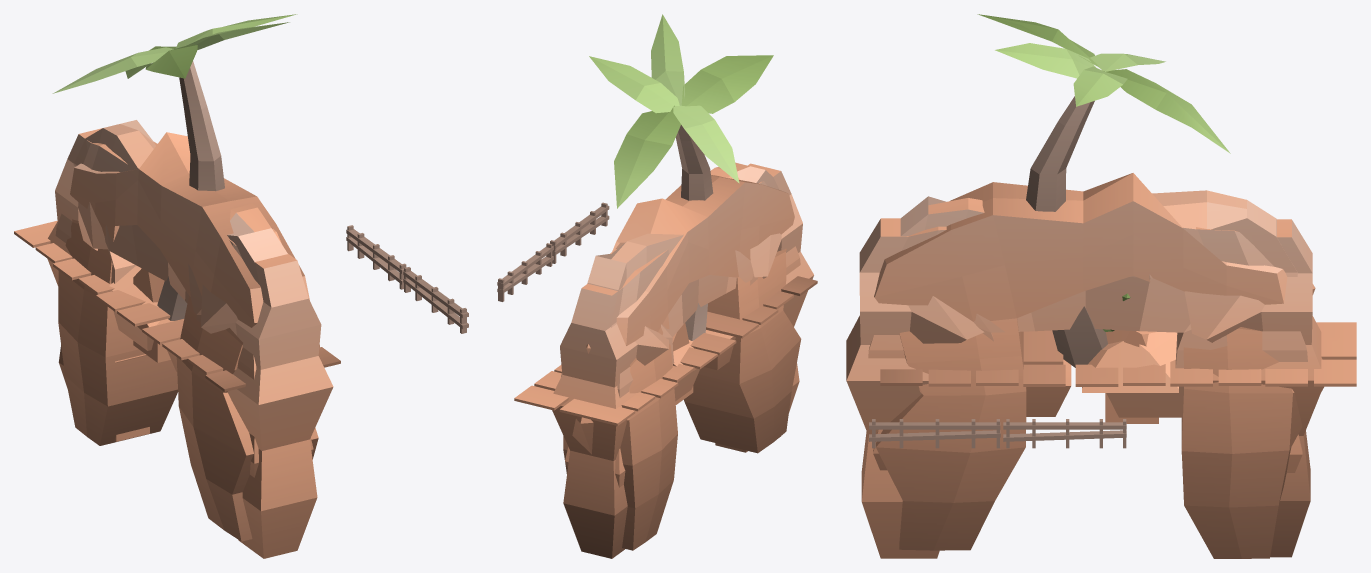
Rendered from DesertProps.fbx.
The picture shows the model from 3 angles, left to right: view 1: azimuth 30°, elevation 25°; view 2: azimuth 150°, elevation 25°; view 3: azimuth 270°, elevation 25°; orthographic projection. The views are drawn at different scales.
Visible parts, largest first — view 1: Arco_01, Arco_03, Palmeira, Arco_02, Estrada, Cerca, Pedra_01, Pedra_04; view 2: Arco_01, Arco_02, Palmeira, Arco_03, Estrada, Cerca, Pedra_01; view 3: Arco_01, Arco_03, Arco_02, Palmeira, Estrada, Cerca, Pedra_04, Pedra_01.
Part boxes in pixels (bbox=[...]): Arco_01: bbox=[58, 132, 318, 541]; Arco_03: bbox=[55, 120, 333, 558]; Palmeira: bbox=[52, 14, 297, 320]; Arco_02: bbox=[47, 128, 313, 477]; Estrada: bbox=[14, 220, 340, 391]; Cerca: bbox=[346, 225, 468, 333]; Pedra_01: bbox=[133, 268, 170, 362]; Pedra_04: bbox=[109, 265, 173, 330]; Arco_01: bbox=[563, 175, 801, 550]; Arco_02: bbox=[552, 162, 800, 558]; Palmeira: bbox=[589, 14, 773, 340]; Arco_03: bbox=[561, 163, 813, 487]; Estrada: bbox=[514, 276, 817, 425]; Cerca: bbox=[497, 202, 609, 301]; Pedra_01: bbox=[672, 323, 693, 404]; Arco_01: bbox=[874, 173, 1323, 558]; Arco_03: bbox=[846, 190, 1307, 558]; Arco_02: bbox=[868, 196, 1323, 557]; Palmeira: bbox=[977, 14, 1230, 367]; Estrada: bbox=[880, 322, 1356, 386]; Cerca: bbox=[869, 419, 1126, 448]; Pedra_04: bbox=[1082, 332, 1178, 392]; Pedra_01: bbox=[1105, 330, 1158, 423].
Size of the model in its own units: 656 by 1064 by 923.
